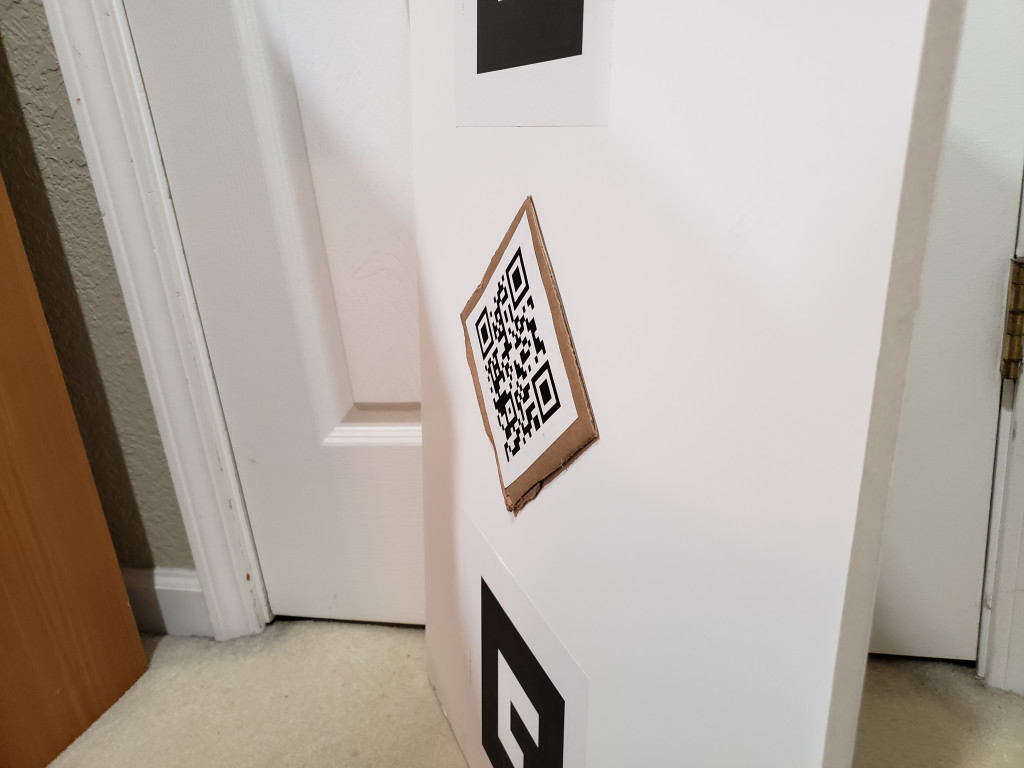QR_CODE: (458, 234, 577, 478)
